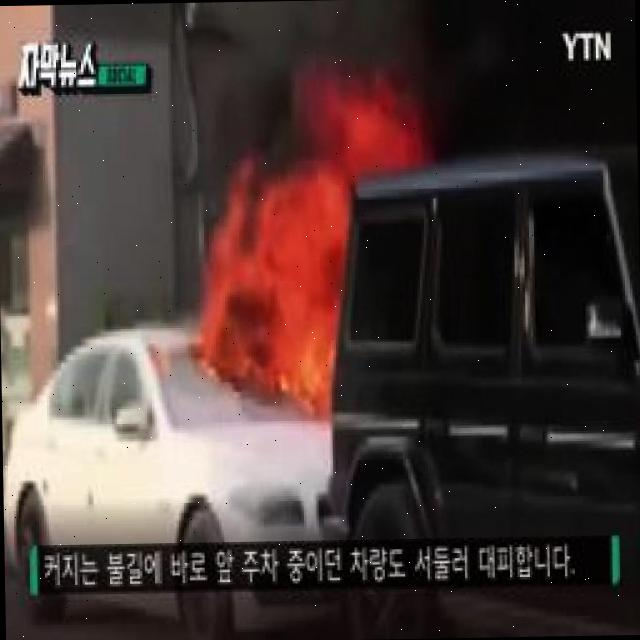fire: (220, 110, 422, 410)
